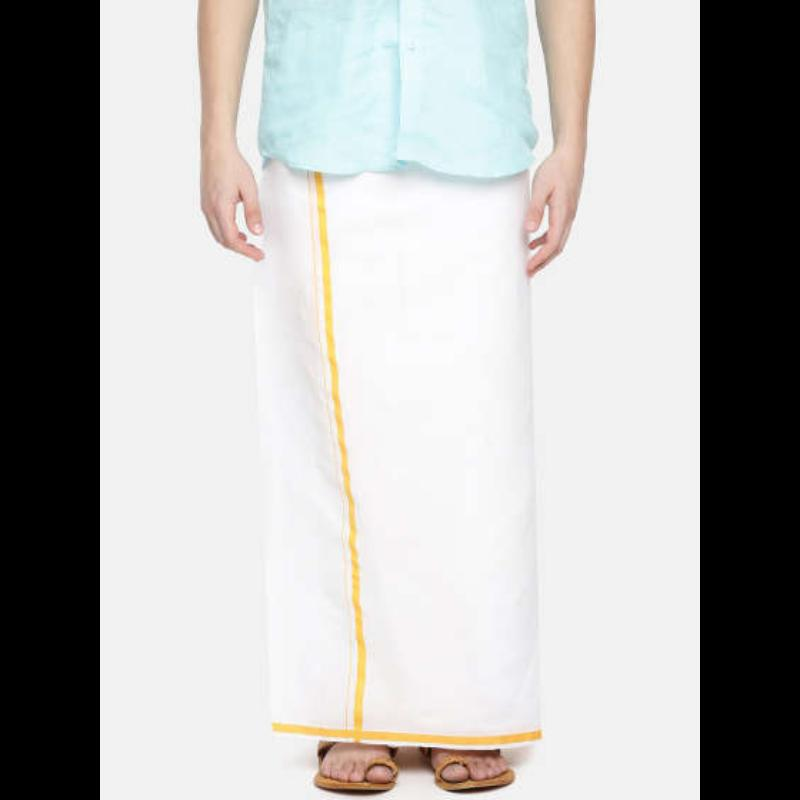Dhoti: (257, 171, 565, 759)
Shirt: (257, 0, 533, 173)
